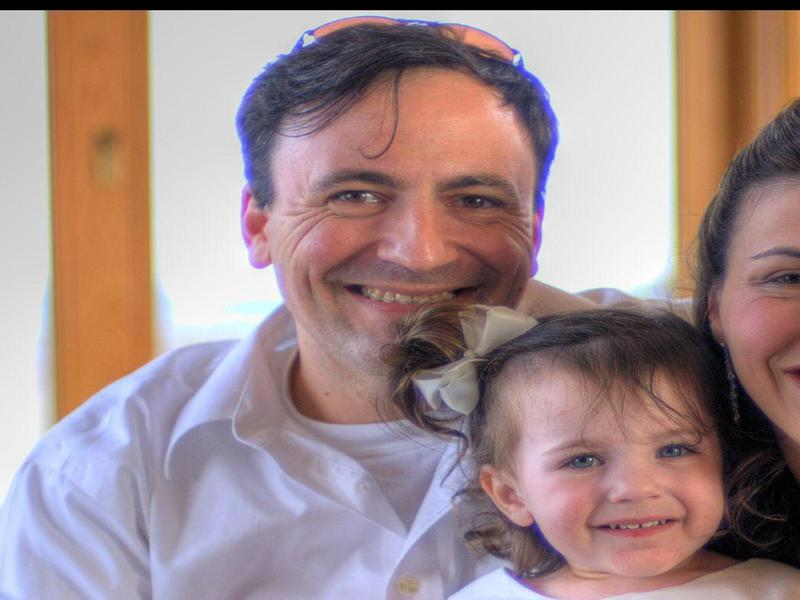person: (7, 22, 567, 600), (427, 307, 798, 598), (707, 85, 800, 493)
